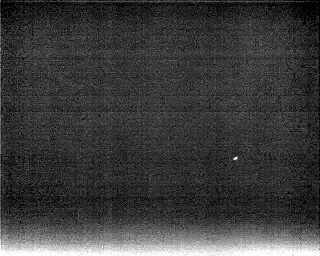BIRD: (231, 154, 240, 165)
